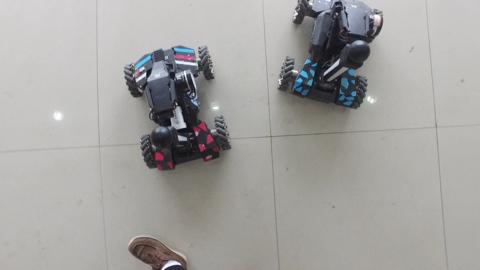chariot: (114, 42, 234, 174), (270, 1, 389, 116)
